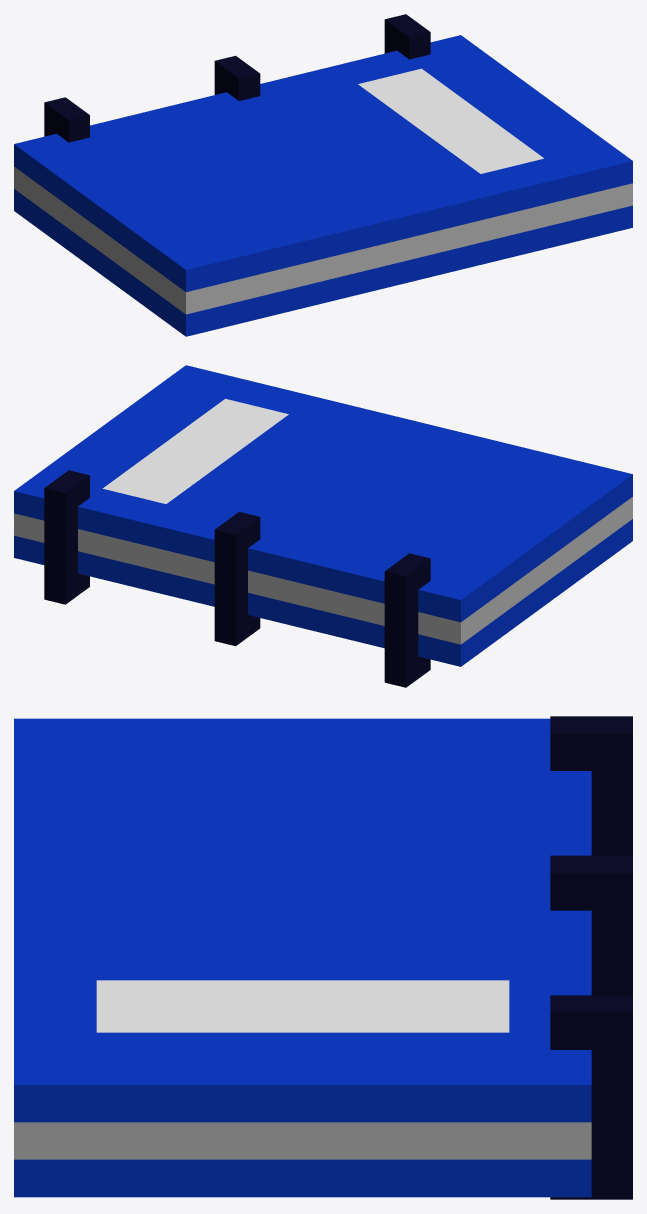
Rendered from Voxel Universe-44-Book.obj.
3 views of the same model, one above another, from view 1: azimuth 30°, elevation 25°; view 2: azimuth 150°, elevation 25°; view 3: azimuth 270°, elevation 25° (orthographic). The views are drawn at different scales.
Visible parts, largest first — view 1: Book; view 2: Book; view 3: Book.
Part boxes in pixels (<box>): Book: <box>14,14,632,336</box>; Book: <box>14,365,632,687</box>; Book: <box>14,716,632,1199</box>.
Size of the model in its own units: 2.1 by 0.5 by 1.5.
1 material, 1 textured.
